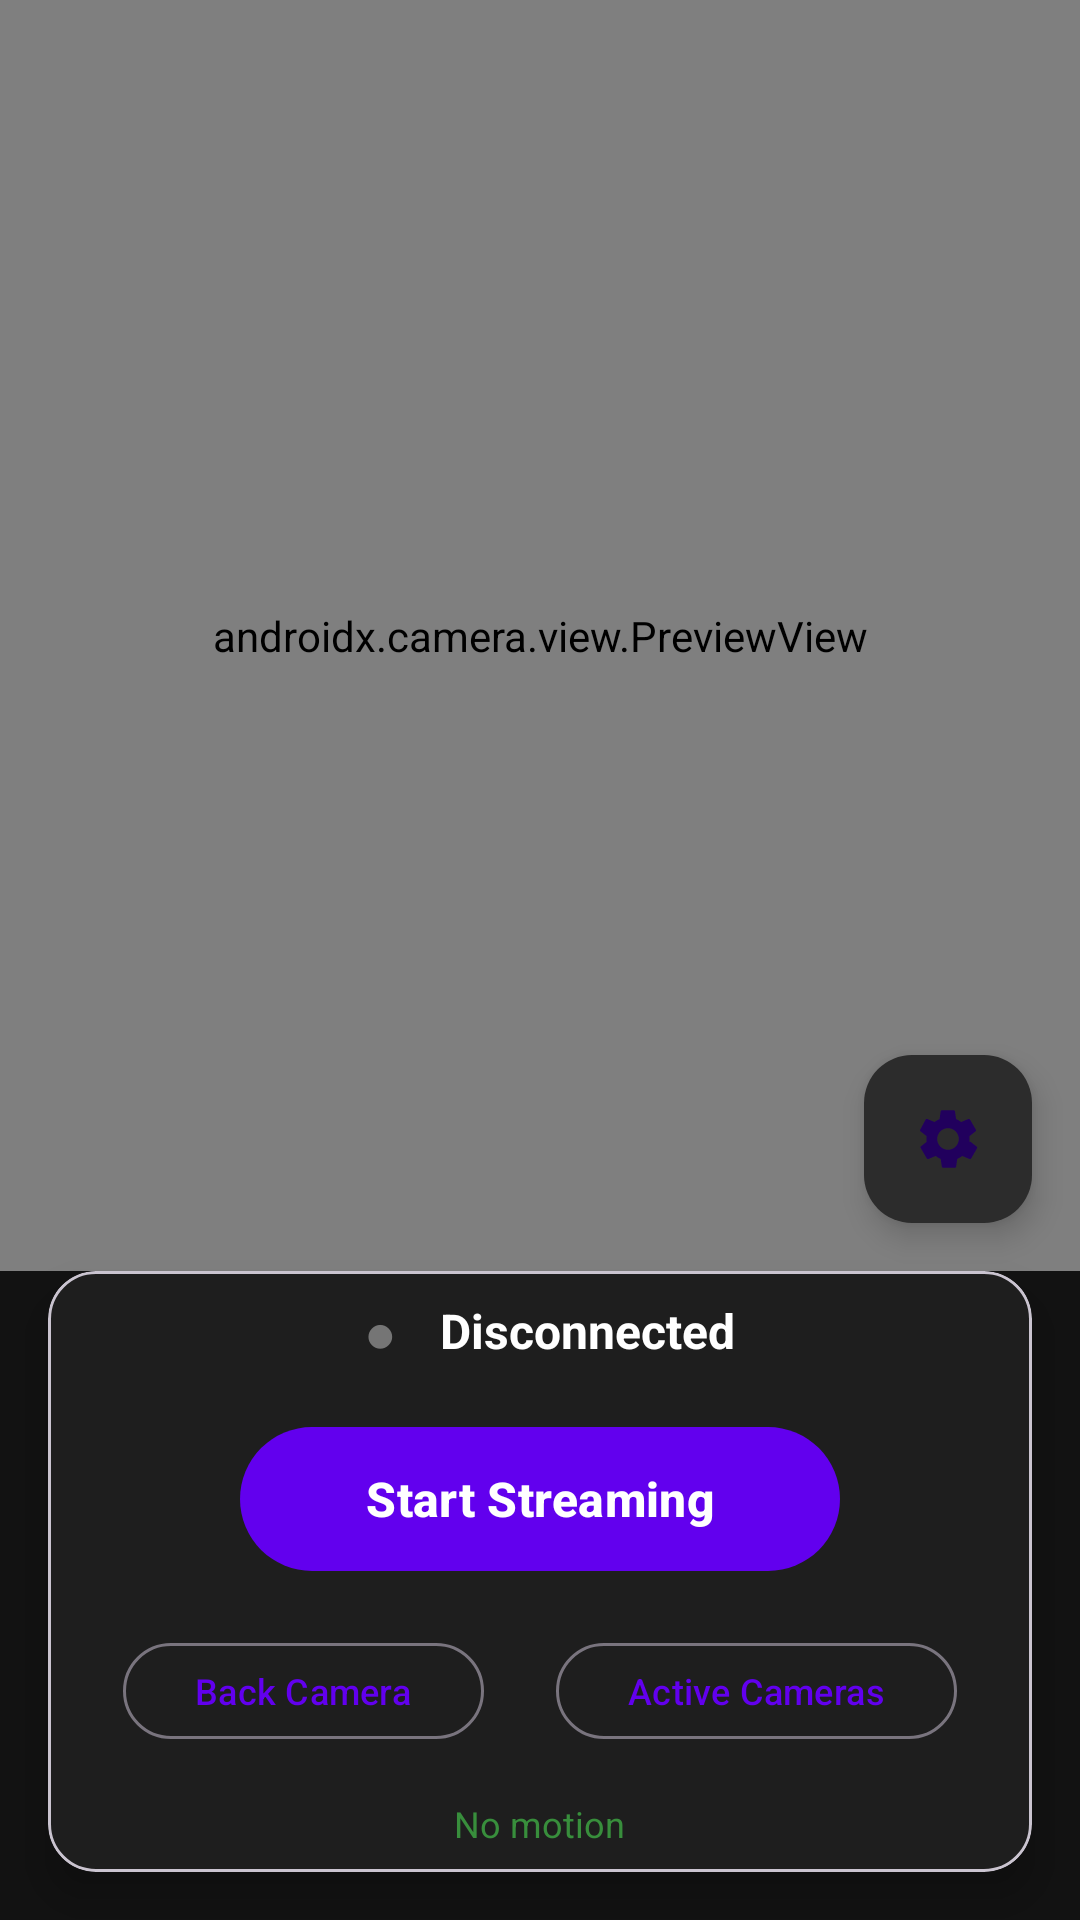

Icons on this 1080x1920 Android screen, each with the point to tap as [x,y]:
Settings: [948,1139]
